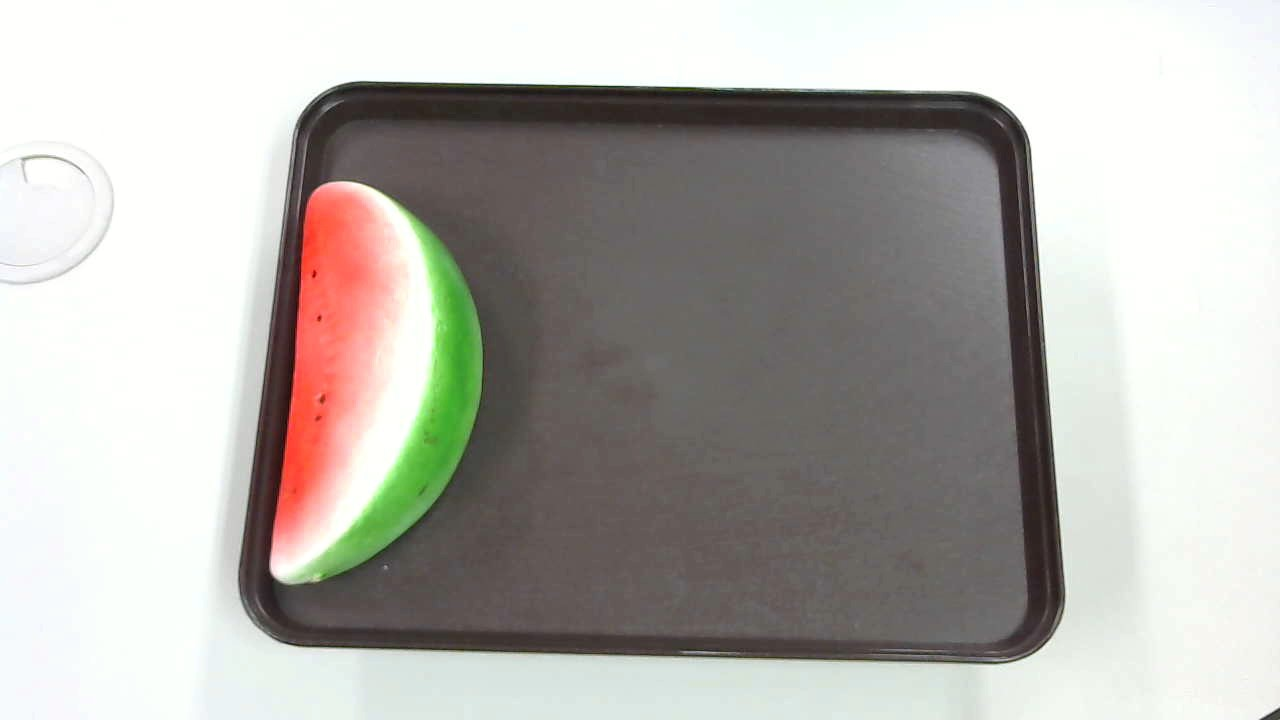water melon: (269, 178, 488, 586)
